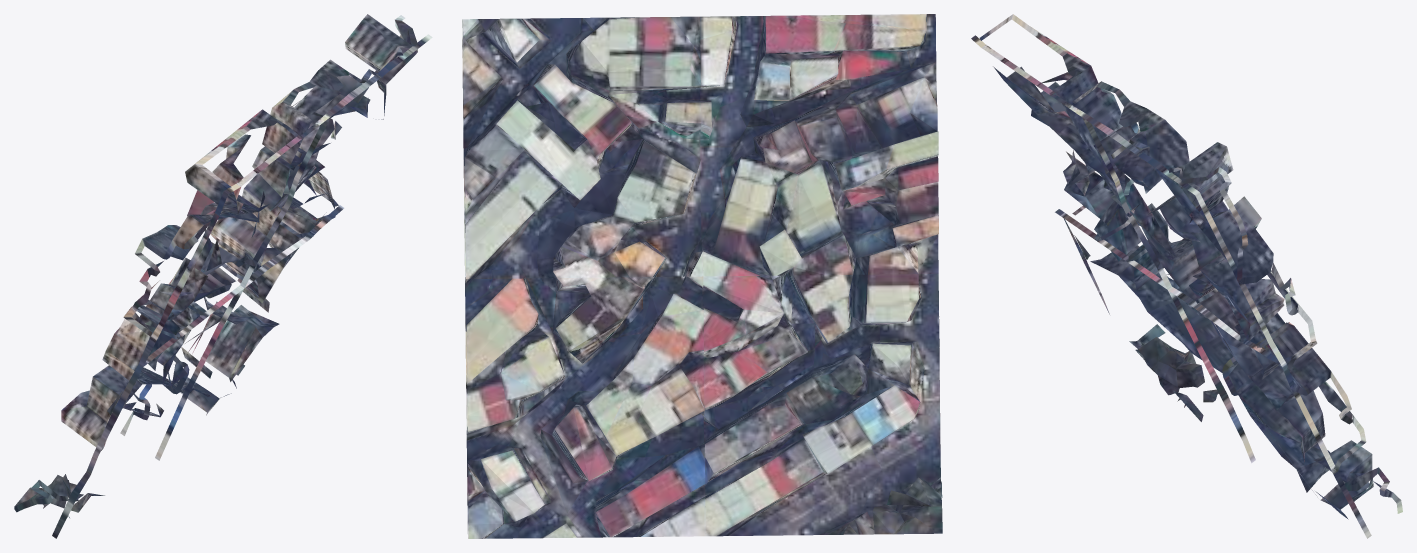
The picture shows the model from 3 angles, left to right: view 1: azimuth 30°, elevation 25°; view 2: azimuth 150°, elevation 25°; view 3: azimuth 270°, elevation 25°; orthographic projection. The views are drawn at different scales.
Bounding box in the file's own units: 160 × 147 × 139.
1 material, 1 textured.
